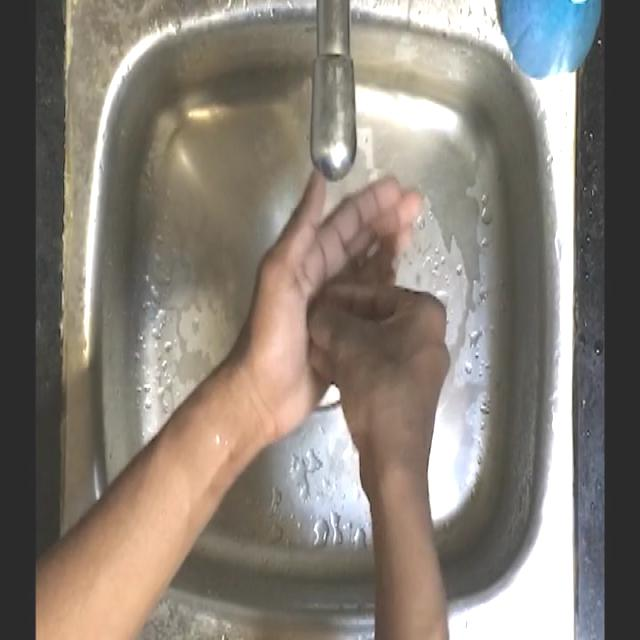step_6: (247, 158, 457, 460)
